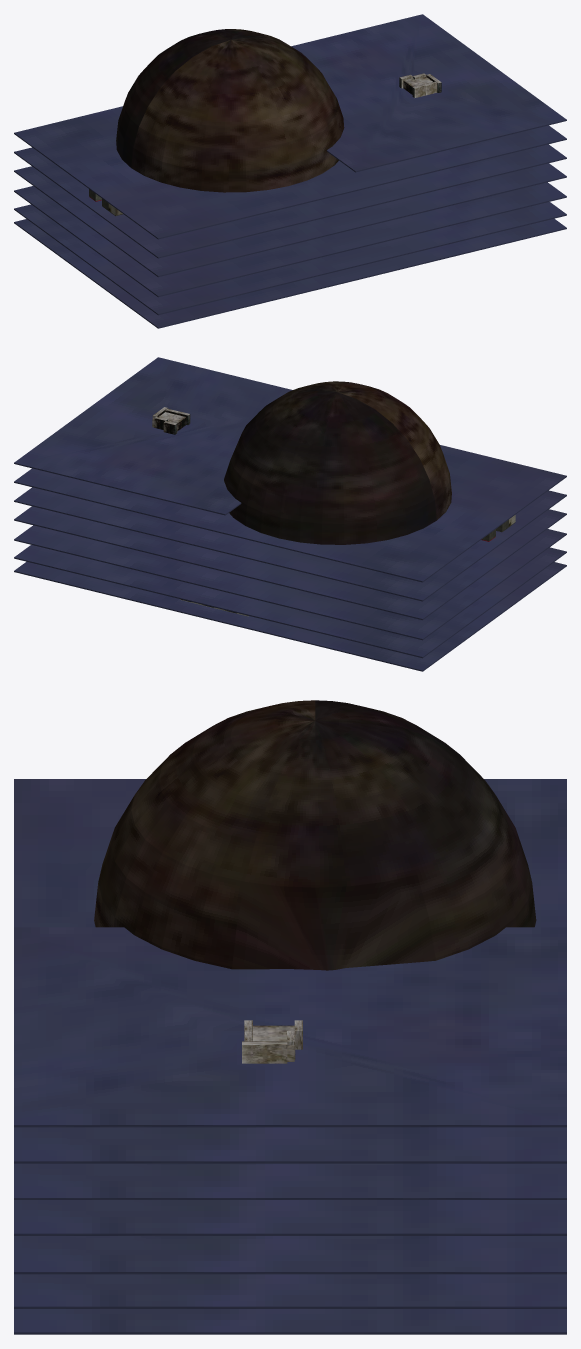
The model's file is hospitalv4.glb.
3 renders of one model, top to bottom at view 1: azimuth 30°, elevation 25°; view 2: azimuth 150°, elevation 25°; view 3: azimuth 270°, elevation 25°, orthographic. The views are drawn at different scales.
Visible parts, largest first — view 1: Sphere, Connected building night foundation.006, Connected building night foundation.005, Connected building night foundation.002, Connected building night foundation.003, Connected building night foundation.004, Connected building night foundation.001, Connected building night foundation; view 2: Sphere, Connected building night foundation.006, Connected building night foundation.005, Connected building night foundation.002, Connected building night foundation.003, Connected building night foundation.004, Connected building night foundation.001, Connected building night foundation; view 3: Connected building night foundation.006, Sphere, Connected building night foundation.005, Connected building night foundation.002, Connected building night foundation.004, Connected building night foundation.003, Connected building night foundation.001, Connected building night foundation, Wall_Underground Maze.188.
Boxes of the visible parts, bbox=[...] form: Sphere: bbox=[116, 29, 344, 192]; Connected building night foundation.006: bbox=[291, 14, 566, 172]; Connected building night foundation.005: bbox=[14, 106, 566, 239]; Connected building night foundation.002: bbox=[14, 182, 566, 297]; Connected building night foundation.003: bbox=[14, 163, 566, 277]; Connected building night foundation.004: bbox=[14, 144, 566, 258]; Connected building night foundation.001: bbox=[14, 202, 566, 315]; Connected building night foundation: bbox=[14, 218, 566, 328]; Sphere: bbox=[224, 381, 451, 544]; Connected building night foundation.006: bbox=[14, 357, 292, 515]; Connected building night foundation.005: bbox=[14, 445, 566, 582]; Connected building night foundation.002: bbox=[14, 525, 566, 640]; Connected building night foundation.003: bbox=[14, 506, 566, 620]; Connected building night foundation.004: bbox=[14, 487, 566, 601]; Connected building night foundation.001: bbox=[14, 545, 566, 658]; Connected building night foundation: bbox=[14, 561, 566, 671]; Connected building night foundation.006: bbox=[14, 927, 566, 1127]; Sphere: bbox=[94, 700, 536, 970]; Connected building night foundation.005: bbox=[14, 779, 566, 1163]; Connected building night foundation.002: bbox=[14, 1236, 566, 1274]; Connected building night foundation.004: bbox=[14, 1163, 566, 1199]; Connected building night foundation.003: bbox=[14, 1200, 566, 1235]; Connected building night foundation.001: bbox=[14, 1274, 566, 1308]; Connected building night foundation: bbox=[14, 1309, 566, 1334]; Wall_Underground Maze.188: bbox=[242, 1041, 287, 1063].
Size of the model in its own units: 180 by 81.9 by 110.
Materials: 76 (73 with a texture image).
